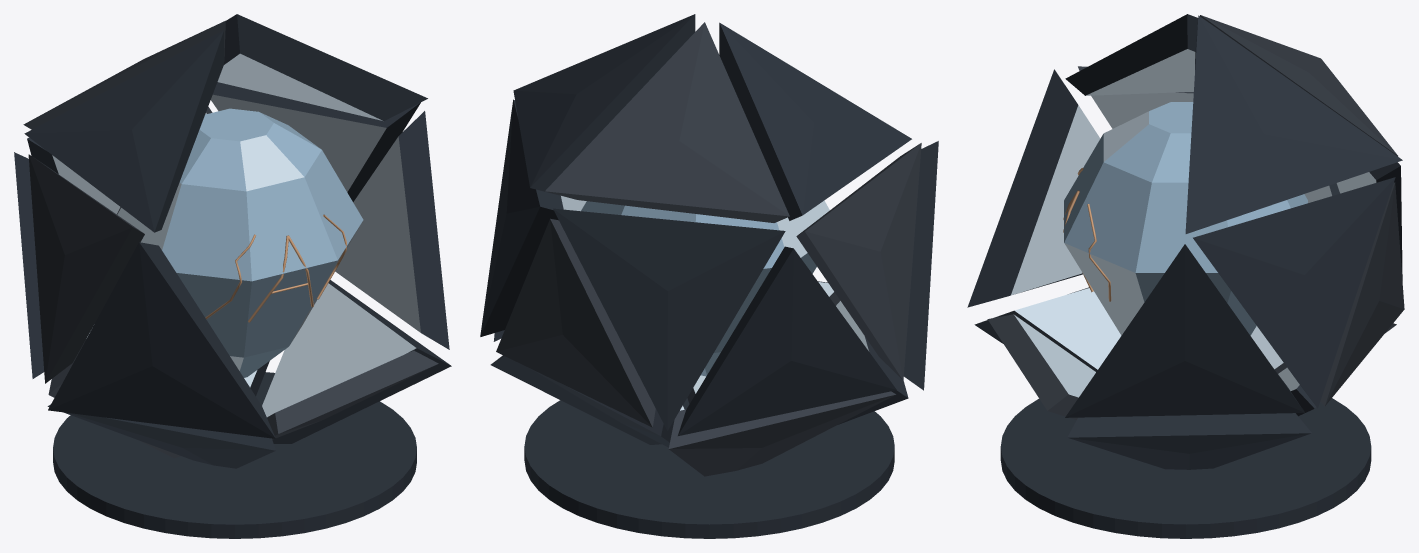
Rendered from aleem-specimen.glb.
3 views of the same model, side by side, from view 1: azimuth 30°, elevation 25°; view 2: azimuth 150°, elevation 25°; view 3: azimuth 270°, elevation 25° (orthographic).
Parts seen in each view (by area): view 1: HERO_Core, ENV_SpecimenPlinth, HERO_Shell_07, HERO_Shell_17, HERO_Shell_05, HERO_Shell_12, HERO_Shell_01, HERO_Shell_19, HERO_Shell_14, HERO_Shell_02, HERO_Shell_00, HERO_Shell_08 (+2 smaller); view 2: ENV_SpecimenPlinth, HERO_Shell_13, HERO_Shell_18, HERO_Shell_08, HERO_Shell_17, HERO_Shell_12, HERO_Shell_09, HERO_Shell_19, HERO_Shell_14, HERO_Shell_03, HERO_Shell_07, HERO_Core (+3 smaller); view 3: ENV_SpecimenPlinth, HERO_Shell_19, HERO_Core, HERO_Shell_14, HERO_Shell_05, HERO_Shell_07, HERO_Shell_01, HERO_Shell_09, HERO_Shell_17, HERO_Shell_02, HERO_Shell_00, HERO_Shell_18 (+4 smaller).
Boxes of the visible parts, box(x1,y1,x2,y2) form: HERO_Core: box(117, 108, 363, 377); ENV_SpecimenPlinth: box(53, 372, 416, 538); HERO_Shell_07: box(48, 242, 275, 438); HERO_Shell_17: box(24, 30, 223, 232); HERO_Shell_05: box(335, 111, 449, 349); HERO_Shell_12: box(28, 154, 144, 383); HERO_Shell_01: box(262, 280, 451, 443); HERO_Shell_19: box(217, 14, 427, 120); HERO_Shell_14: box(211, 82, 420, 201); HERO_Shell_02: box(47, 404, 275, 468); HERO_Shell_00: box(267, 350, 438, 439); HERO_Shell_08: box(14, 152, 44, 378); ENV_SpecimenPlinth: box(524, 398, 894, 538); HERO_Shell_13: box(553, 208, 785, 430); HERO_Shell_18: box(545, 22, 789, 222); HERO_Shell_08: box(678, 246, 896, 435); HERO_Shell_17: box(719, 22, 911, 220); HERO_Shell_12: box(796, 143, 921, 380); HERO_Shell_09: box(496, 218, 655, 427); HERO_Shell_19: box(513, 14, 695, 194); HERO_Shell_14: box(480, 99, 563, 336); HERO_Shell_03: box(668, 391, 895, 476); HERO_Shell_07: box(885, 141, 938, 390); HERO_Core: box(581, 200, 829, 376); ENV_SpecimenPlinth: box(1000, 398, 1371, 538); HERO_Shell_19: box(1185, 15, 1402, 233); HERO_Core: box(1064, 102, 1307, 335); HERO_Shell_14: box(1193, 177, 1395, 408); HERO_Shell_05: box(1065, 244, 1304, 417); HERO_Shell_07: box(967, 69, 1100, 307); HERO_Shell_01: box(1067, 413, 1311, 469); HERO_Shell_09: box(1320, 182, 1404, 406); HERO_Shell_17: box(1065, 14, 1197, 95); HERO_Shell_02: box(974, 287, 1121, 371); HERO_Shell_00: box(987, 314, 1095, 419); HERO_Shell_18: box(1200, 15, 1397, 156).
Size of what is drawn, in the model's own units: 3.46 by 3.87 by 3.28.
